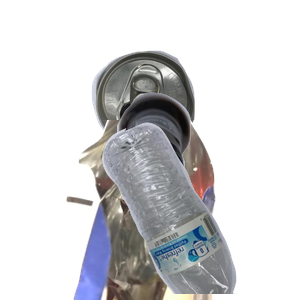glass: (115, 90, 300, 270)
metal: (89, 48, 276, 192)
plastic: (100, 120, 300, 300)
trash: (63, 120, 300, 300)
